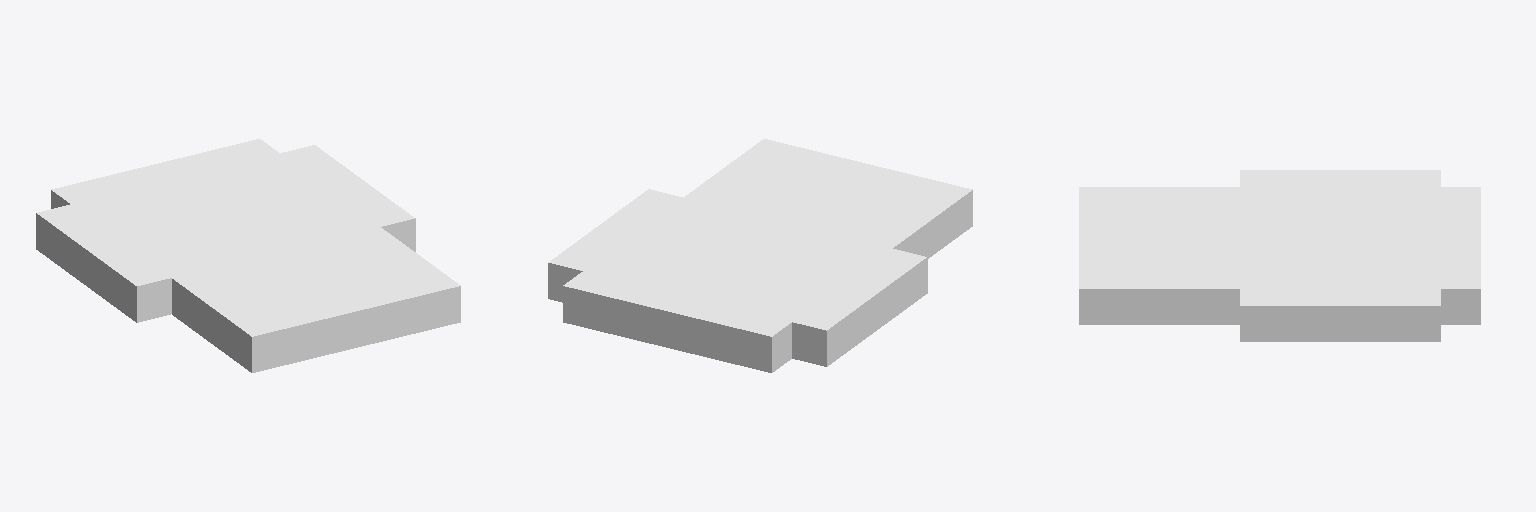
Rendered from SkeletonHead.obj.
3 views of the same model, side by side, from view 1: azimuth 30°, elevation 25°; view 2: azimuth 150°, elevation 25°; view 3: azimuth 270°, elevation 25° (orthographic).
Size of the model in its own units: 8 by 1 by 10.